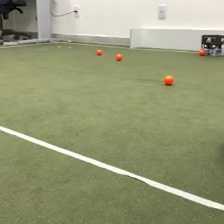ball: (163, 73, 174, 85), (115, 51, 123, 60), (198, 48, 206, 56), (96, 48, 103, 56)
goal: (128, 25, 224, 52)
robot: (200, 32, 224, 58)
